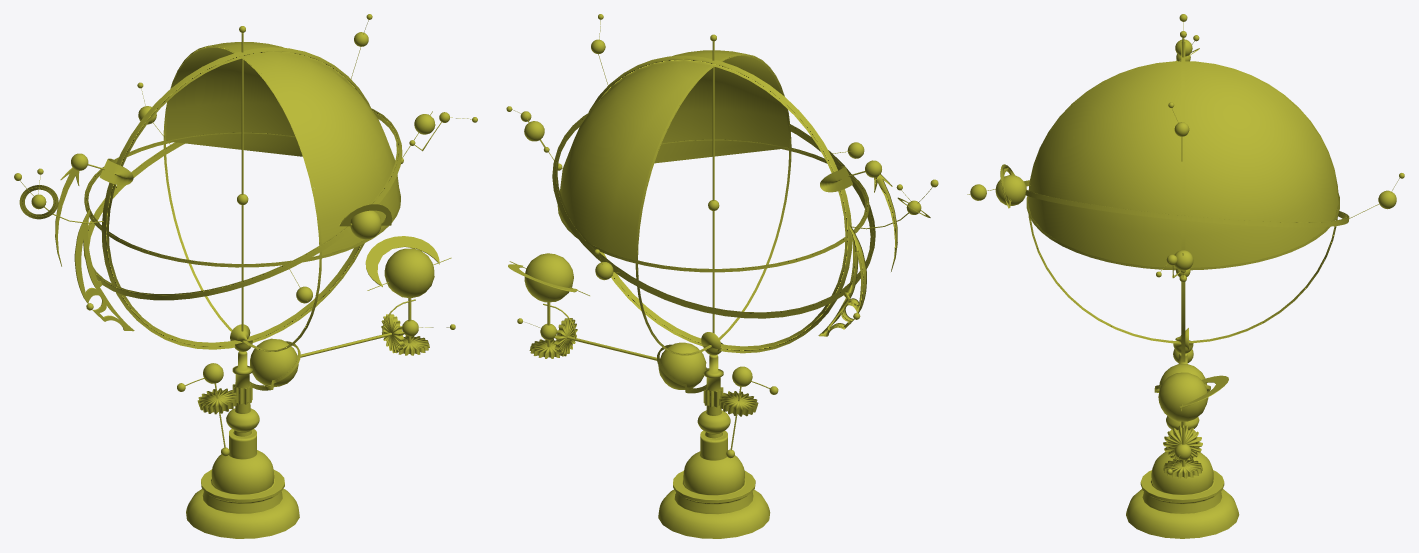
Rendered from orrery.obj.
The picture shows the model from 3 angles, left to right: view 1: azimuth 30°, elevation 25°; view 2: azimuth 150°, elevation 25°; view 3: azimuth 270°, elevation 25°; orthographic projection.
Visible parts, largest first — view 1: panel, arc01, axle10, axle07, Object06, axle09, axle08, planet2, comet01, Object, gear1, axle (+2 smaller); view 2: panel, arc01, axle10, axle07, Object06, axle09, axle08, planet2, comet01, gear1, axle, gear02; view 3: panel, arc01, axle10, Object06, axle09, axle07, axle08, gear02.
Boxes of the visible parts, left/top/right/bottom form: panel: left=166, top=42, right=399, bottom=255; arc01: left=186, top=402, right=299, bottom=538; axle10: left=74, top=82, right=402, bottom=331; axle07: left=101, top=47, right=371, bottom=349; Object06: left=384, top=248, right=455, bottom=355; axle09: left=163, top=45, right=321, bottom=352; axle08: left=84, top=132, right=400, bottom=267; planet2: left=250, top=338, right=298, bottom=386; comet01: left=55, top=153, right=133, bottom=266; Object: left=365, top=236, right=451, bottom=290; gear1: left=197, top=383, right=237, bottom=456; axle: left=241, top=33, right=243, bottom=331; panel: left=559, top=50, right=788, bottom=260; arc01: left=658, top=405, right=770, bottom=538; axle10: left=552, top=113, right=875, bottom=336; axle07: left=586, top=55, right=851, bottom=353; Object06: left=517, top=253, right=573, bottom=358; axle09: left=635, top=53, right=791, bottom=355; axle08: left=557, top=139, right=869, bottom=272; planet2: left=658, top=342, right=706, bottom=389; comet01: left=820, top=160, right=897, bottom=271; gear1: left=719, top=386, right=758, bottom=458; axle: left=712, top=41, right=714, bottom=333; gear02: left=554, top=318, right=577, bottom=356; panel: left=1028, top=62, right=1338, bottom=267; arc01: left=1126, top=416, right=1239, bottom=538; axle10: left=967, top=164, right=1404, bottom=227; Object06: left=1158, top=372, right=1208, bottom=478; axle09: left=1028, top=61, right=1338, bottom=343; axle07: left=1181, top=42, right=1185, bottom=362; axle08: left=1026, top=193, right=1339, bottom=270; gear02: left=1163, top=425, right=1202, bottom=459.
Size of the model in its own units: 648 by 671 by 550.
